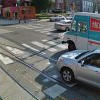crosswalk: (0, 39, 64, 64)
